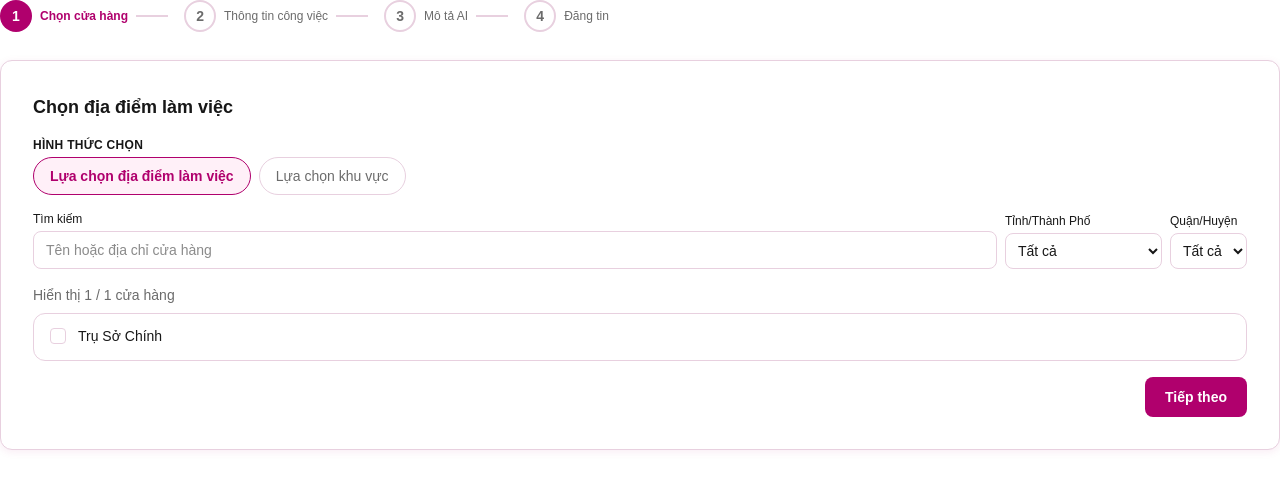
Scenario: JobWizardPage › does not allow submitting Step 1 with no store selected
expect the button labelled "Trụ Sở Chính" is shown: met, box [33,313,1247,361]
Click the button "Tiếp theo" at (1196, 397), box [1145,377,1247,417]
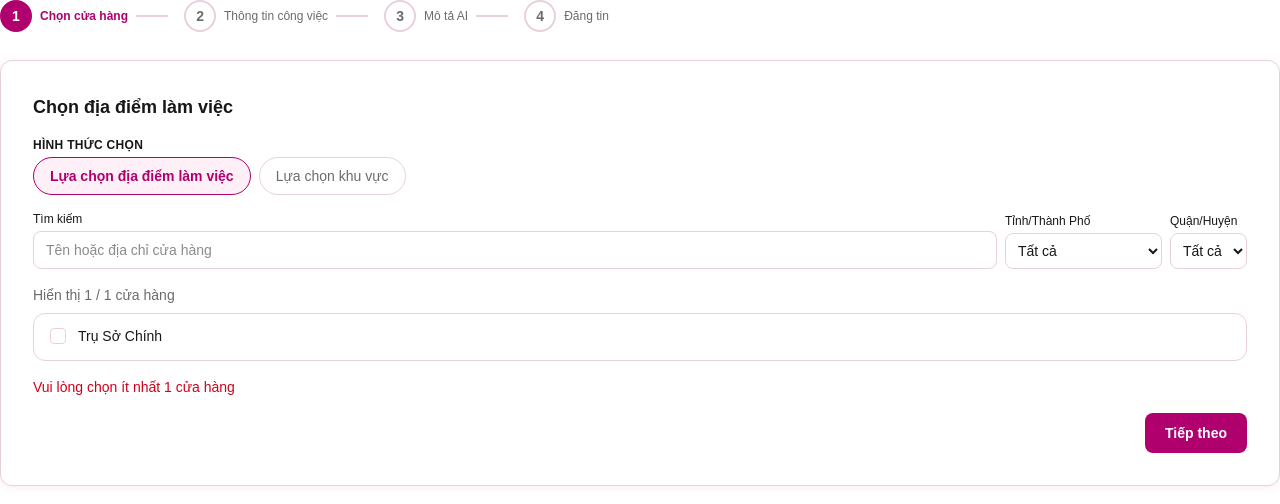
expect the text "Vui lòng chọn ít nhất 1 cửa hàng" is shown: met, box [33,379,235,395]
